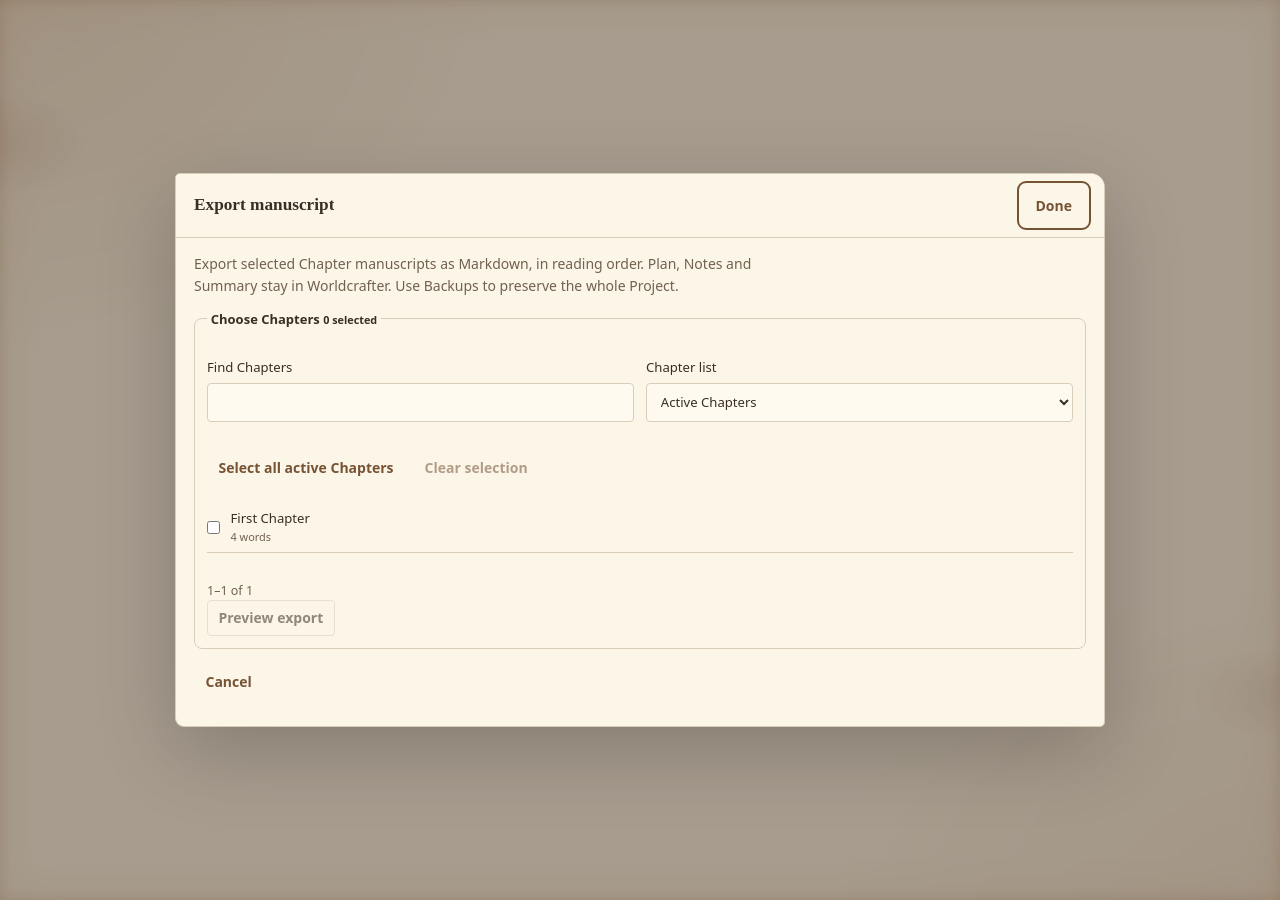
Test: blocks preview when writing cannot be drained and keeps the selection
Click the button "Select all active Chapters" at (306, 468), box [207,450,405,486]
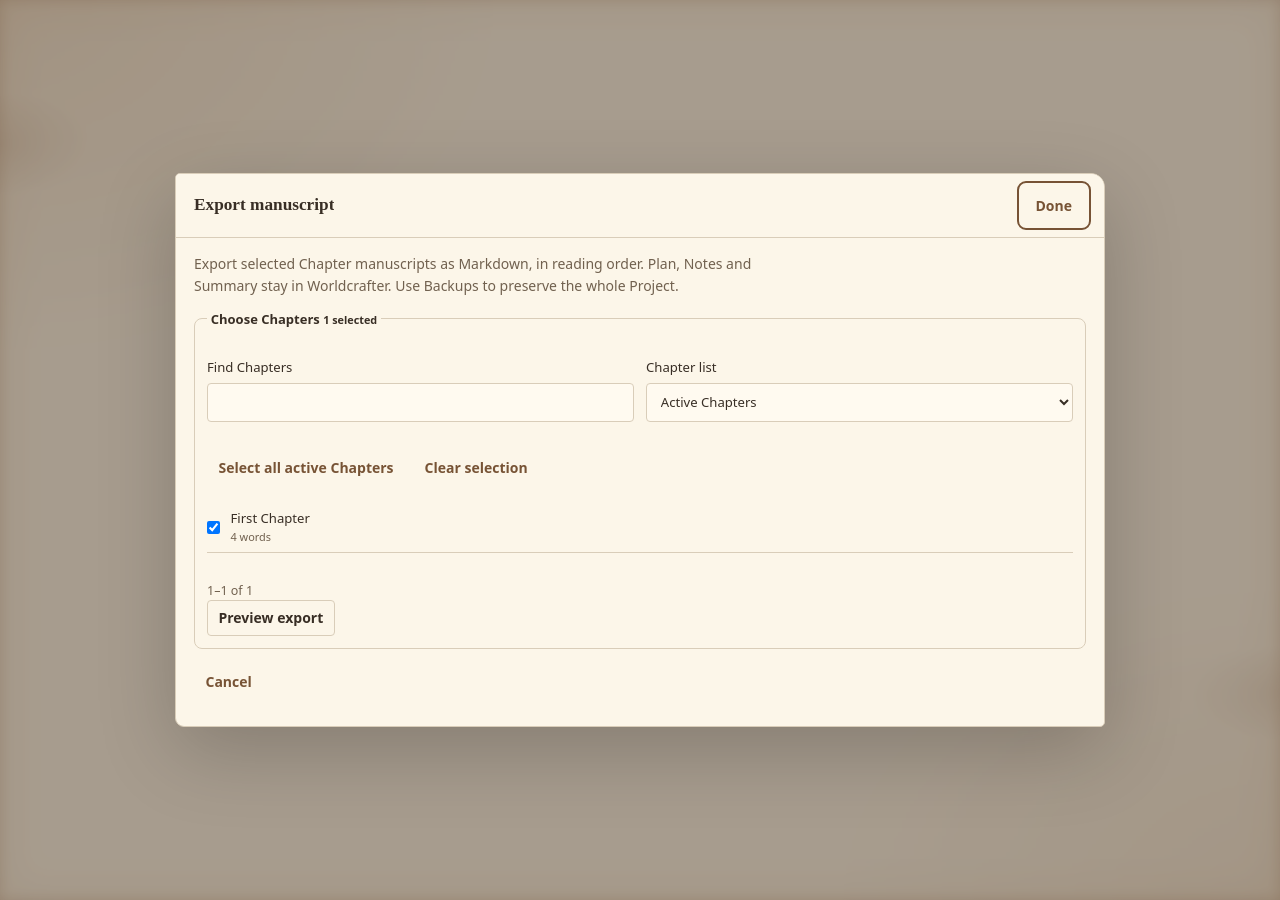
Click the button "Preview export" at (271, 618), box [207,600,335,636]
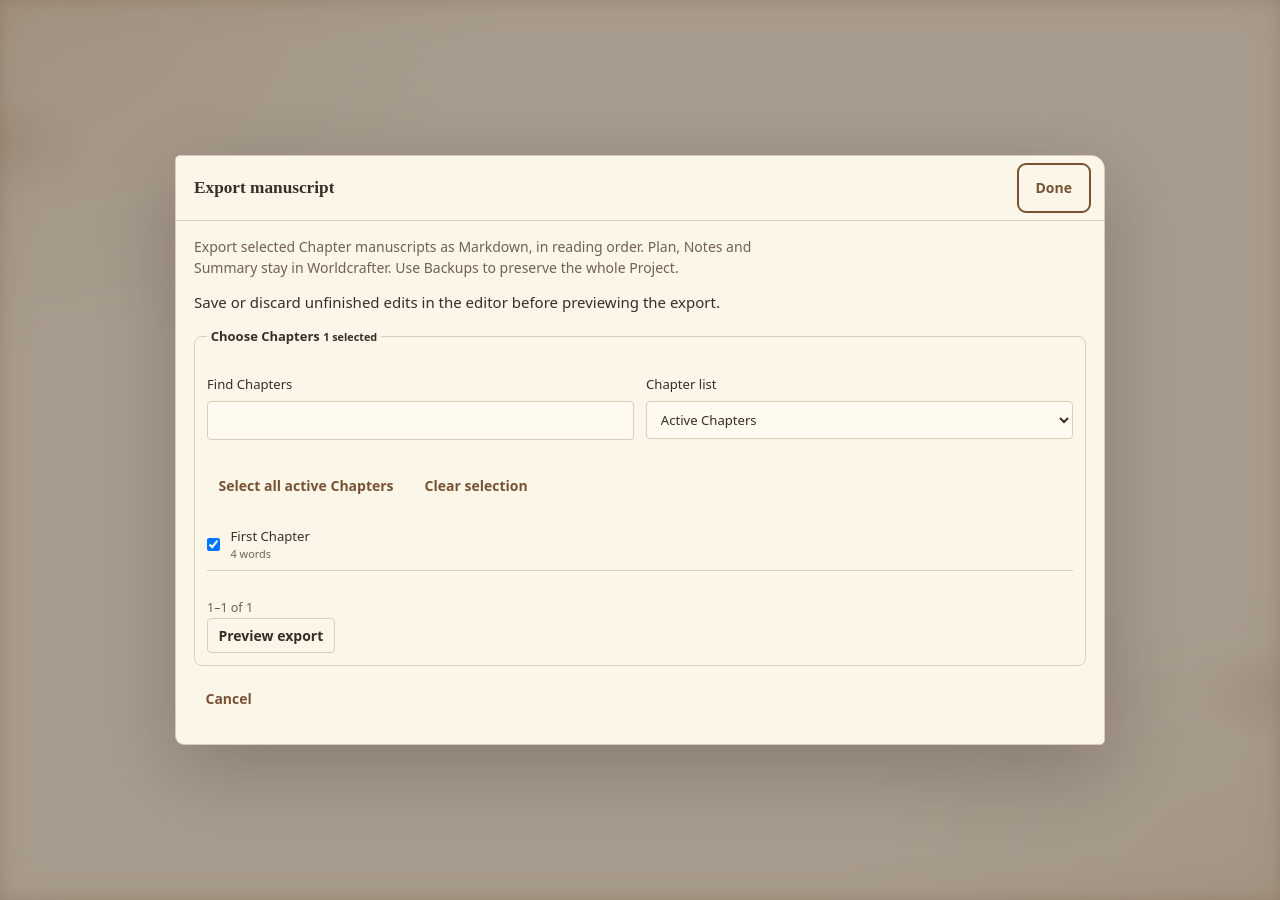
Result: the checkbox is checked at [207,538,220,551]
Result: the message "Save or discard unfinished edits in the editor before previewing the export." is shown at [194,291,812,314]
